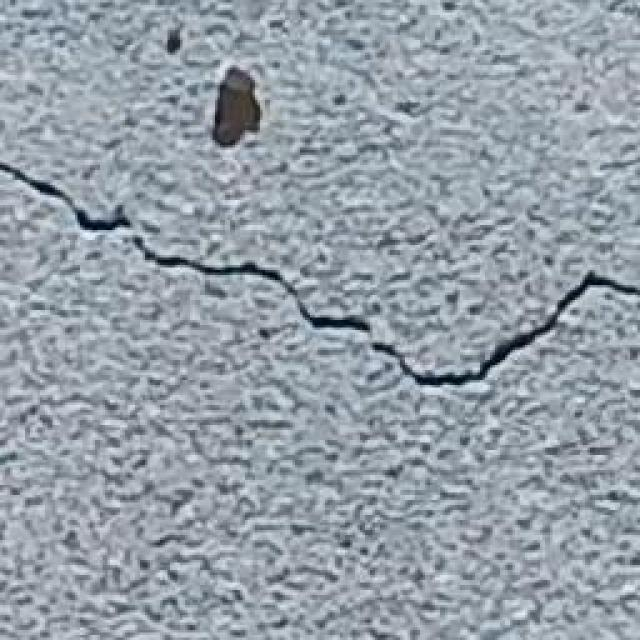concrete-crack: (0, 160, 640, 389), (211, 61, 264, 152)
